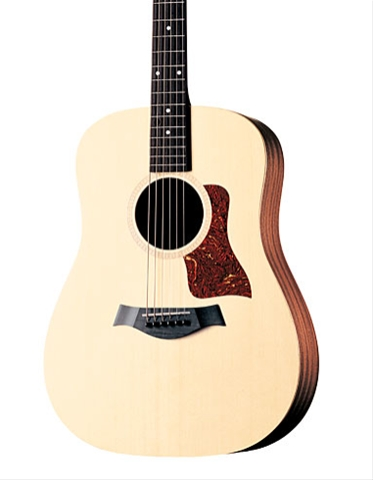guitar: (42, 1, 321, 461)
